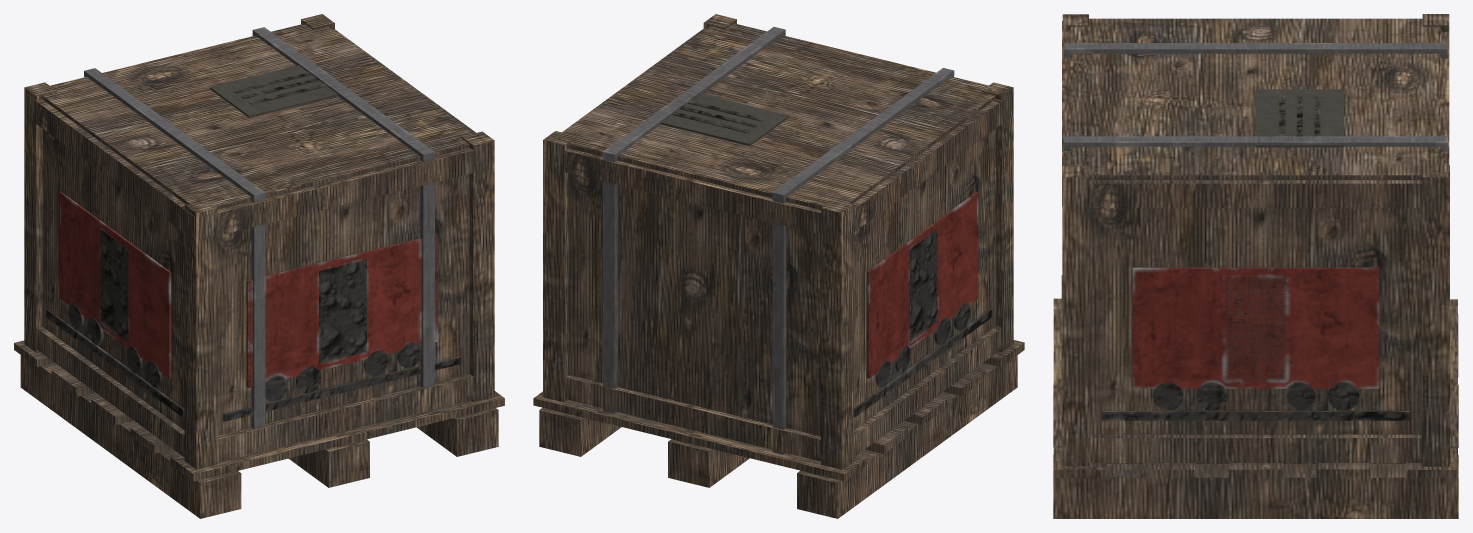
The model's file is feWagonCargo_HD.fbx.
3 views of the same model, side by side, from view 1: azimuth 30°, elevation 25°; view 2: azimuth 150°, elevation 25°; view 3: azimuth 270°, elevation 25° (orthographic). The views are drawn at different scales.
Visible parts, largest first — view 1: feWagonCargo_Kit; view 2: feWagonCargo_Kit; view 3: feWagonCargo_Kit.
Boxes of the visible parts, left/top/right/bottom form: feWagonCargo_Kit: left=14, top=14, right=504, bottom=518; feWagonCargo_Kit: left=533, top=14, right=1024, bottom=518; feWagonCargo_Kit: left=1053, top=14, right=1458, bottom=518.
Size of the model in its own units: 0.9248 by 0.8653 by 0.9236.
1 material, 1 textured.
